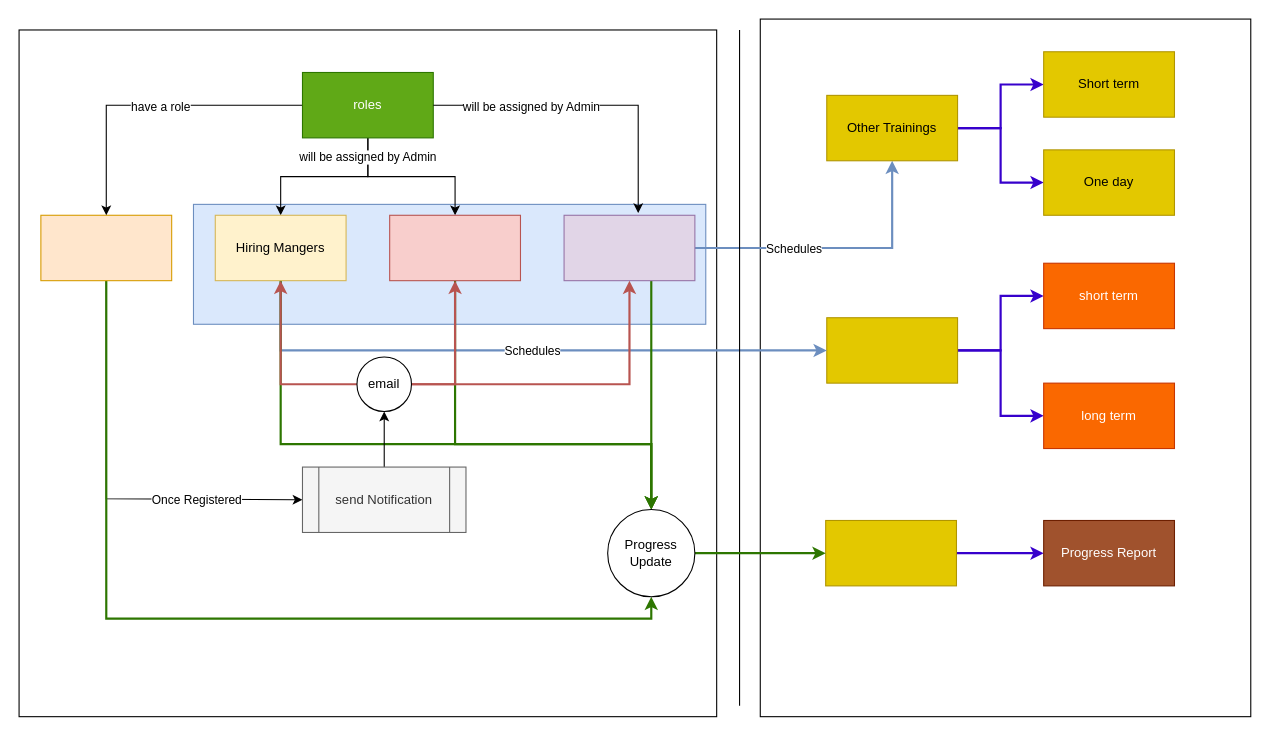
This 1270x736 diagram has some shape labels left out. The shapes that lost their labels are listed below. From the top down, each one's centre as x and y in pixels, then its label:
At point (106, 247): "Neo Employee".
At point (454, 247): "HR".
At point (629, 247): "BU".
At point (892, 350): "mandatory training".
At point (890, 552): "Report".
